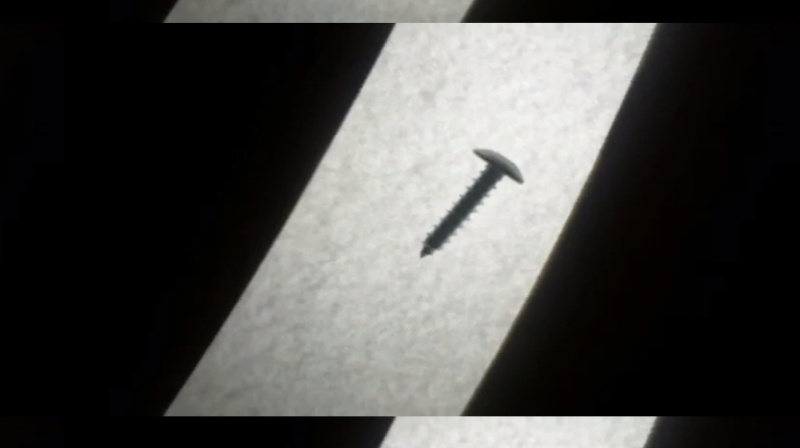S003: (413, 144, 528, 262)
